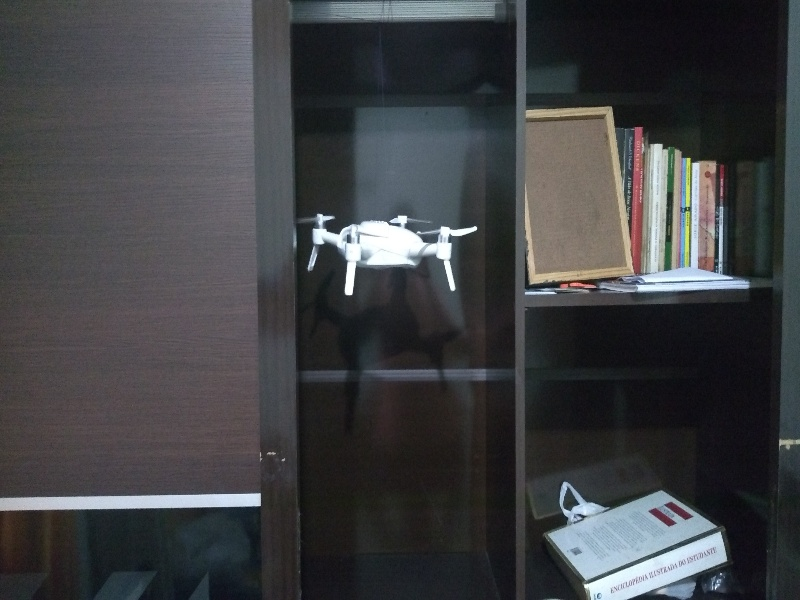drone: (301, 204, 481, 306)
